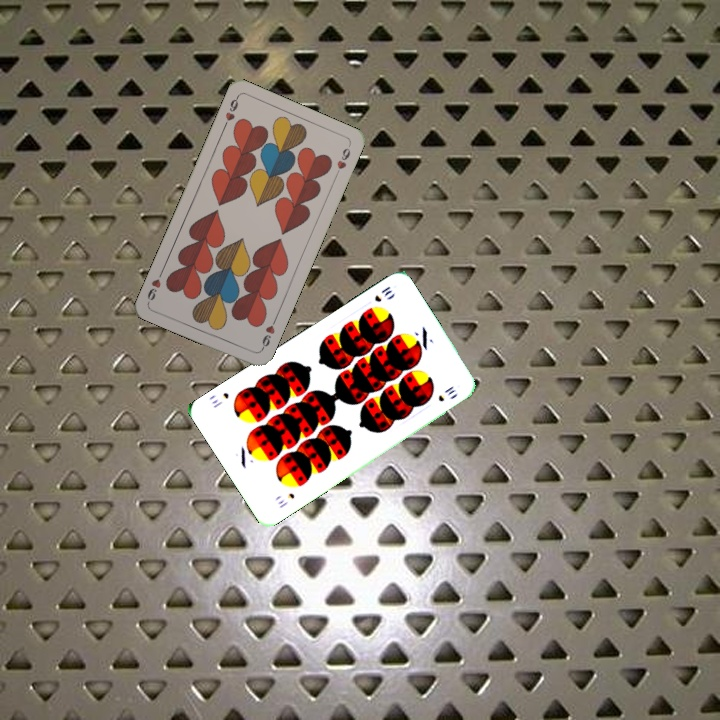H9: (219, 93, 241, 131), (257, 315, 279, 353)
S10: (370, 282, 395, 305), (274, 489, 297, 511)
